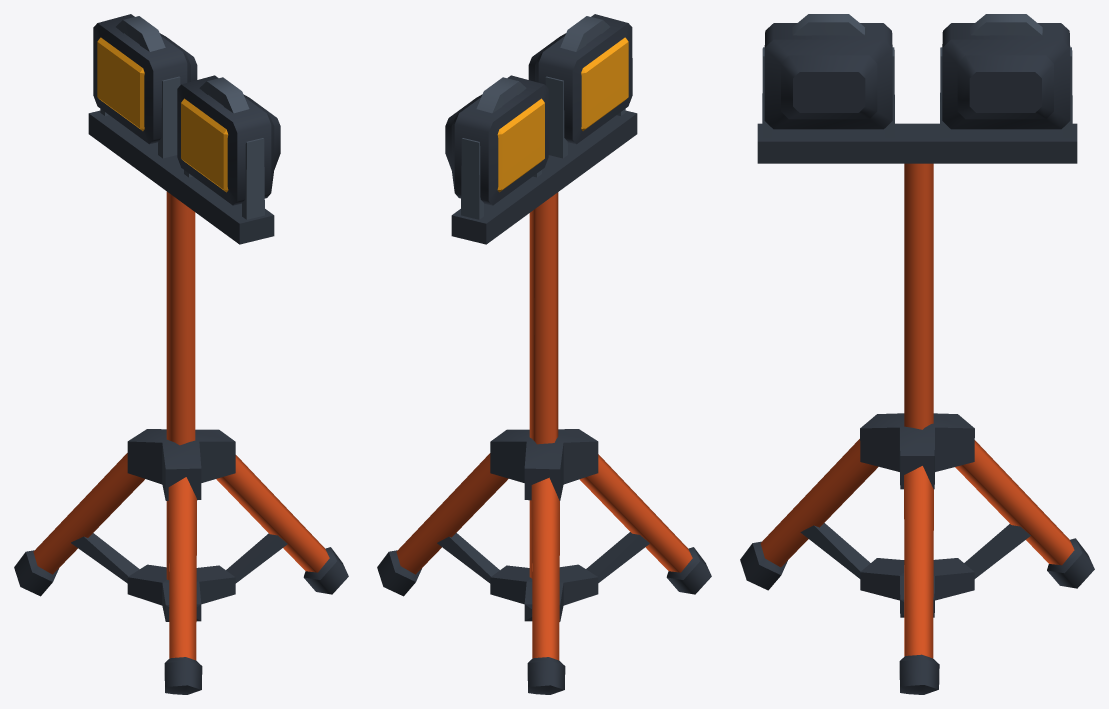
Rendered from LightsC_1_E.fbx.
3 renders of one model, left to right at view 1: azimuth 30°, elevation 25°; view 2: azimuth 150°, elevation 25°; view 3: azimuth 270°, elevation 25°, orthographic. The views are drawn at different scales.
Parts seen in each view (by area): view 1: LightsC_1_E; view 2: LightsC_1_E; view 3: LightsC_1_E.
Part boxes in pixels (bbox=[...]): LightsC_1_E: bbox=[14, 14, 348, 694]; LightsC_1_E: bbox=[377, 14, 711, 694]; LightsC_1_E: bbox=[740, 14, 1094, 694].
Size of the model in its own units: 75.14 by 160 by 85.05.
